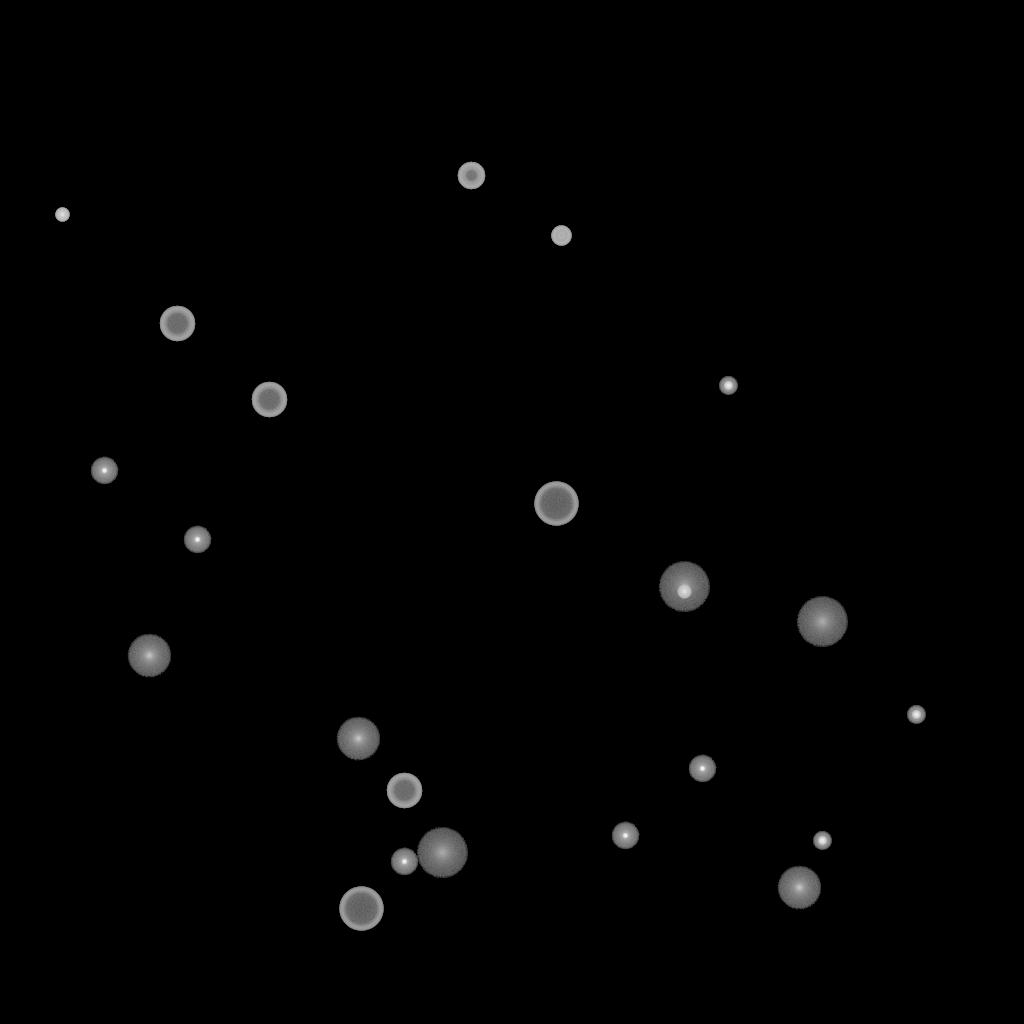depth:-10: (90, 457, 118, 485), (688, 755, 716, 783), (390, 848, 418, 876), (611, 822, 639, 850), (183, 526, 211, 554)
depth:-20: (719, 377, 737, 395), (813, 832, 831, 850), (907, 706, 925, 724)
depth:-30: (677, 585, 691, 599), (55, 208, 69, 222)
depth:-40: (551, 226, 571, 246)
depth:-50: (457, 162, 485, 190)
depth:-60: (159, 306, 195, 342), (386, 773, 422, 809), (251, 382, 287, 418)
depth:-70: (339, 887, 383, 931), (534, 482, 578, 526)
depth:10: (127, 634, 171, 678), (777, 866, 821, 910), (336, 717, 380, 761)
depth:20: (796, 597, 848, 647), (658, 562, 710, 612), (416, 828, 468, 878)
